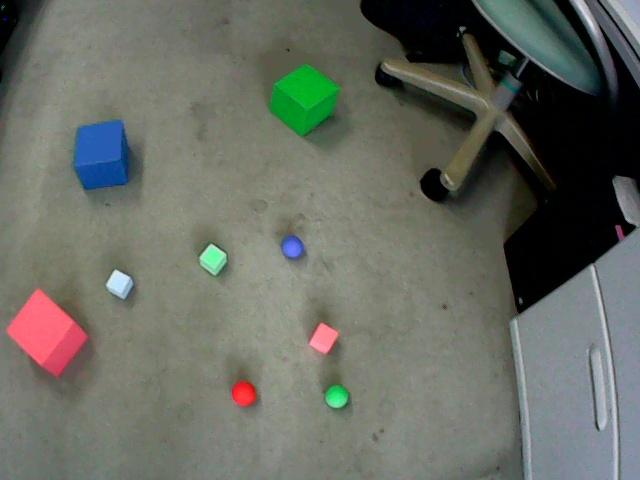blue_block: (74, 120, 129, 189), (106, 269, 133, 299)
red_block: (7, 289, 87, 376), (309, 323, 338, 353)
